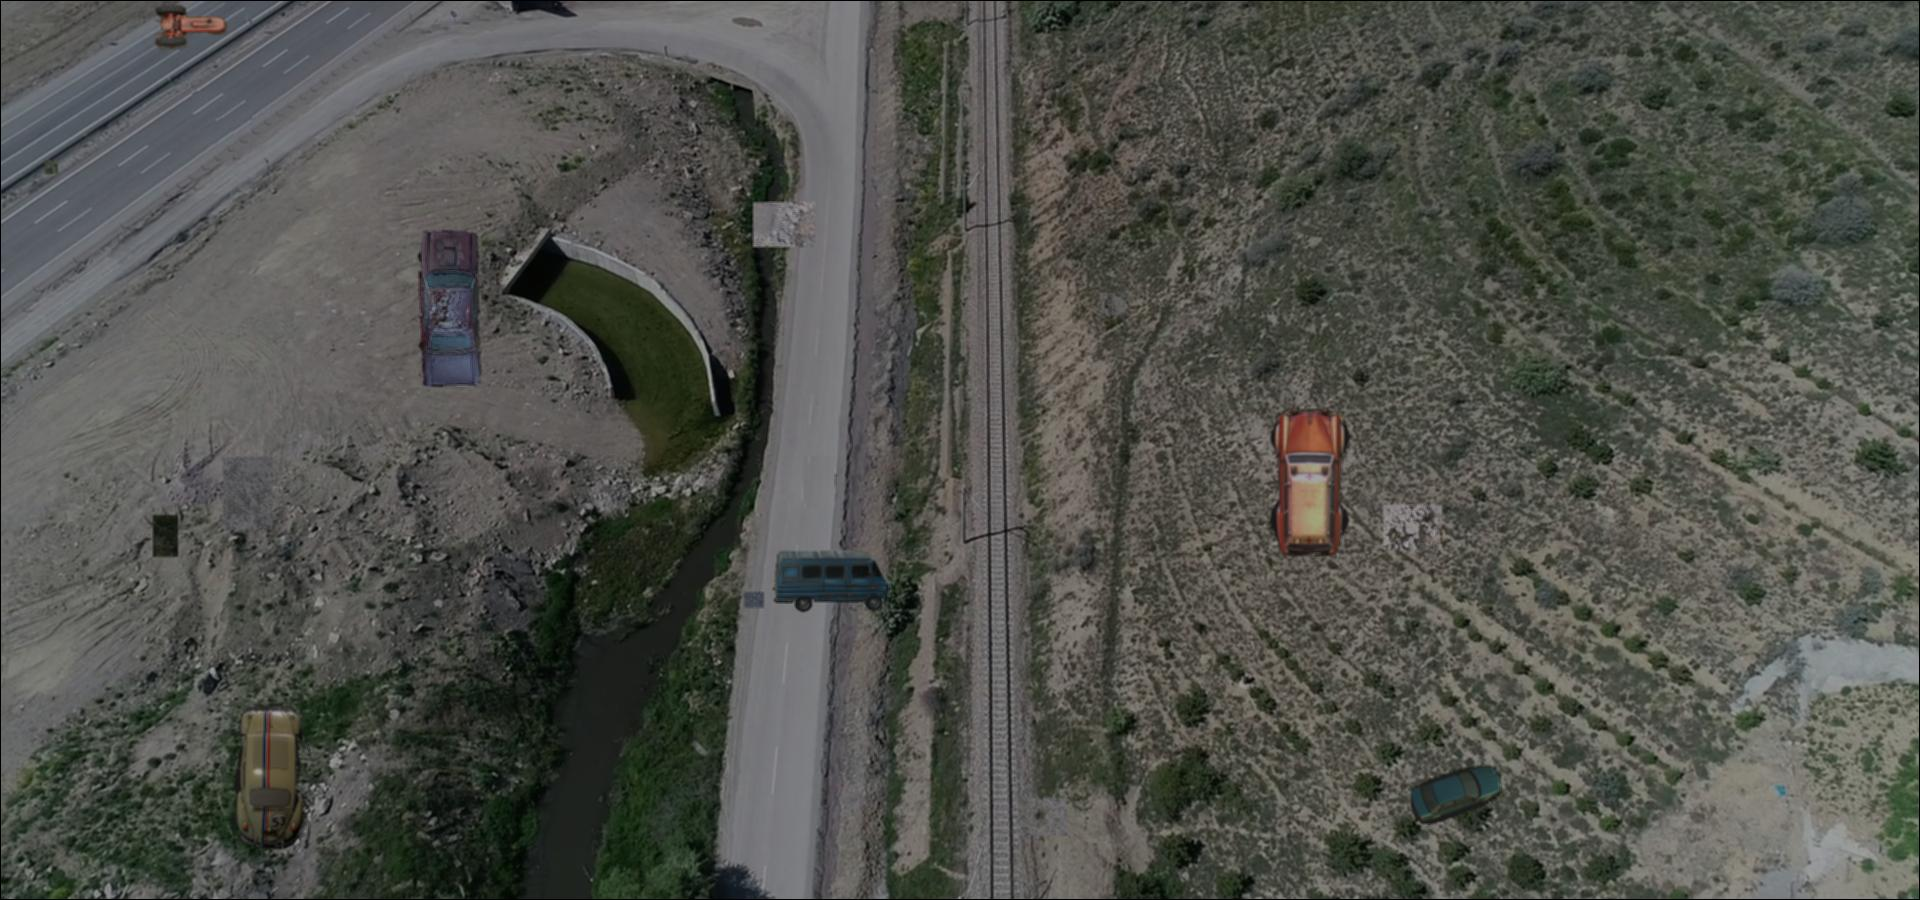arac: (1269, 407, 1353, 558), (411, 228, 486, 391), (229, 707, 310, 849), (771, 549, 890, 613), (1411, 763, 1501, 824), (154, 2, 228, 50)
